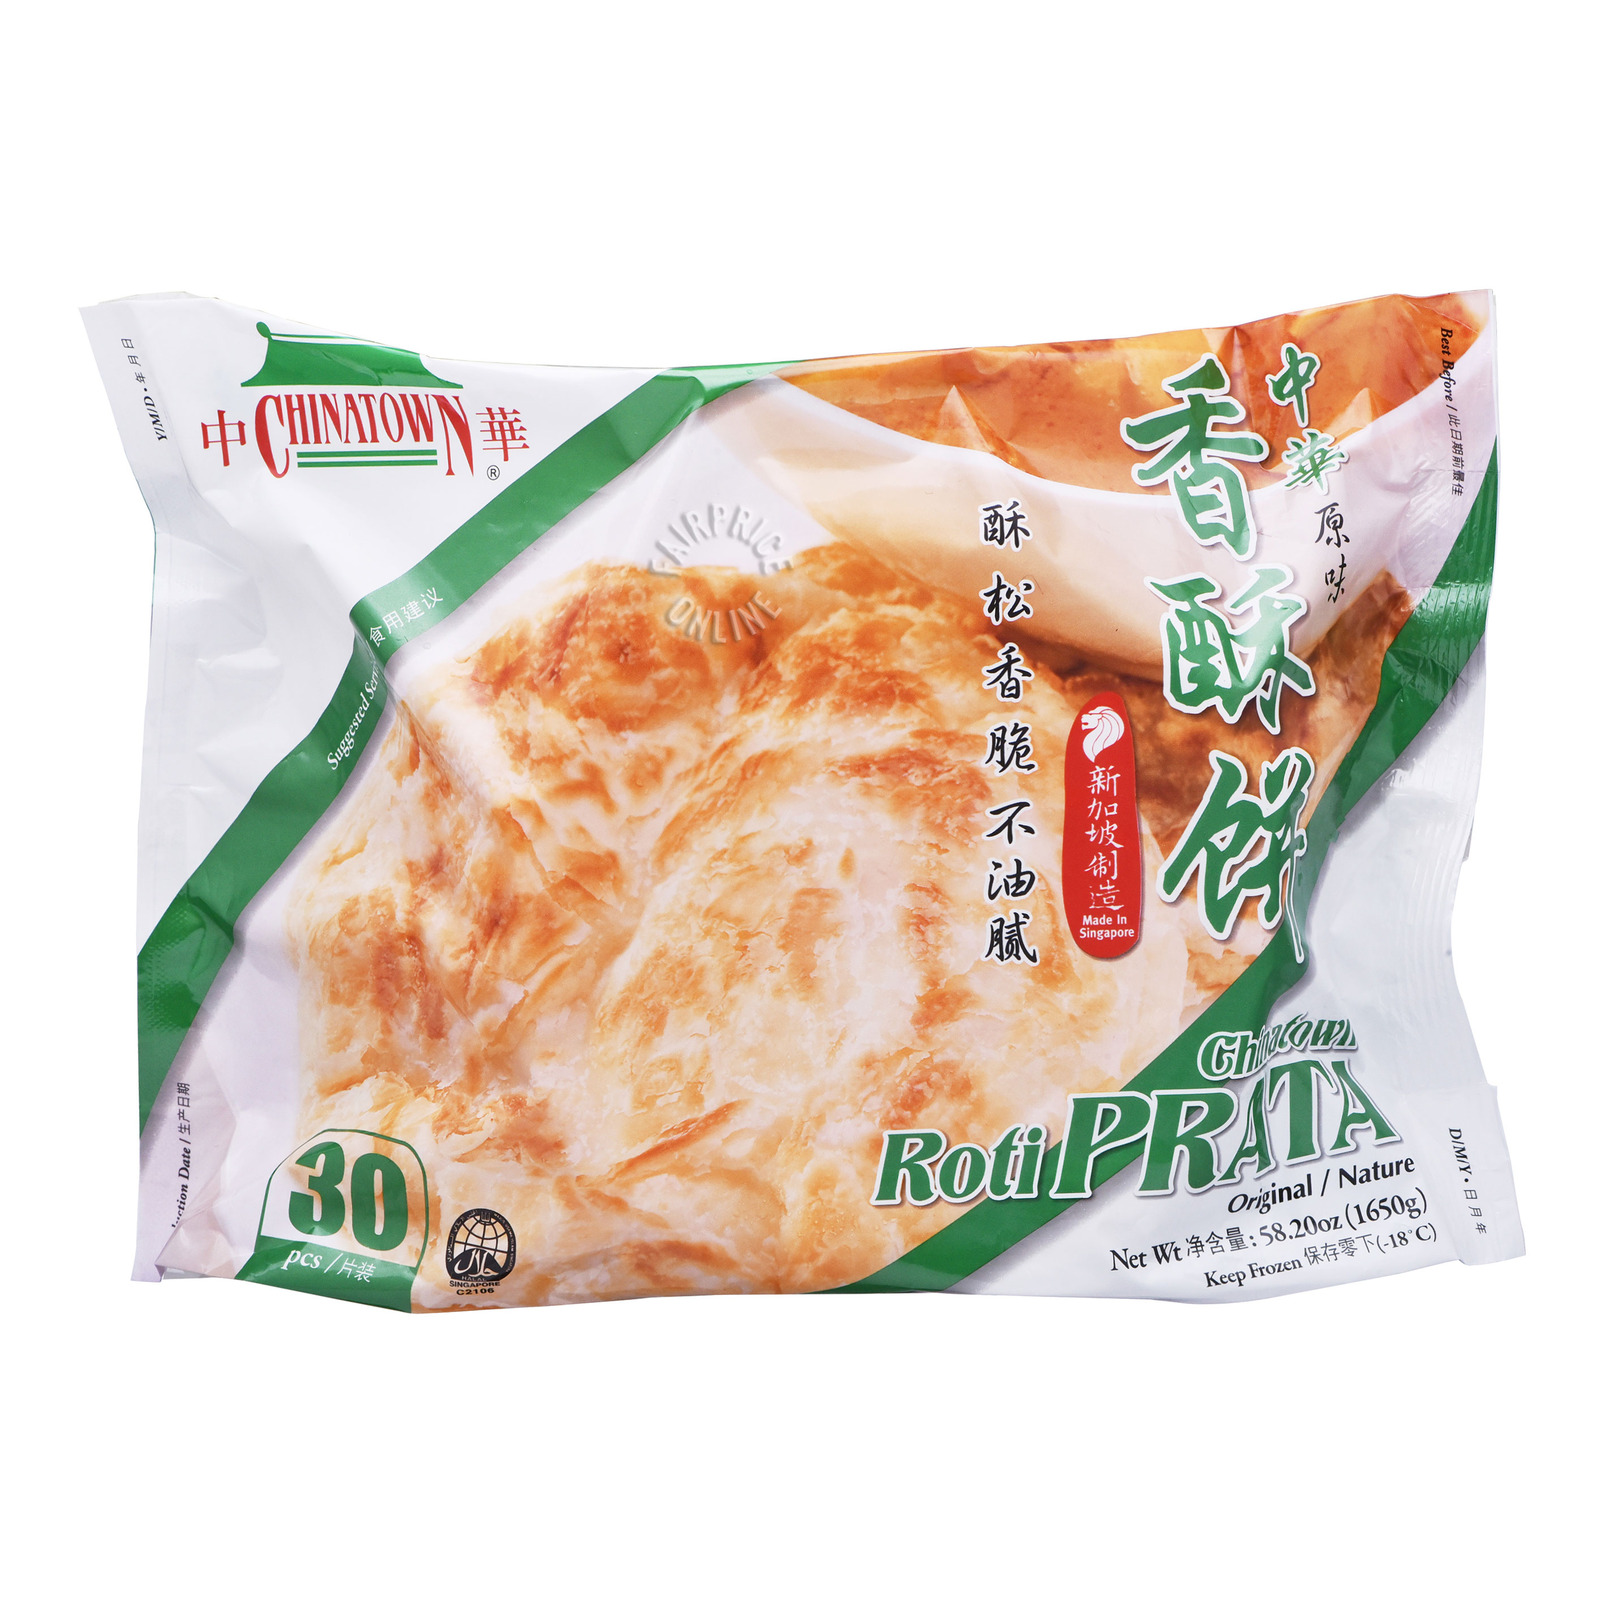Prata: (327, 533, 961, 1278)
